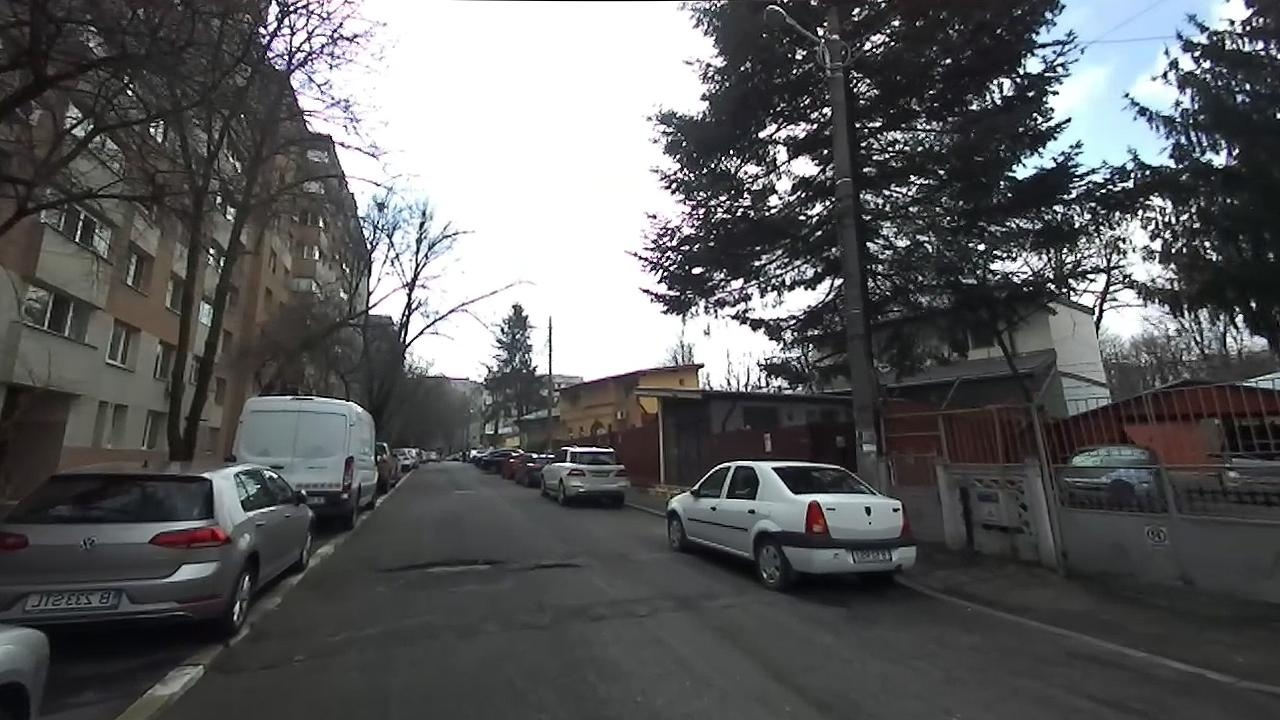pothole: (375, 554, 505, 577), (518, 560, 584, 574)
